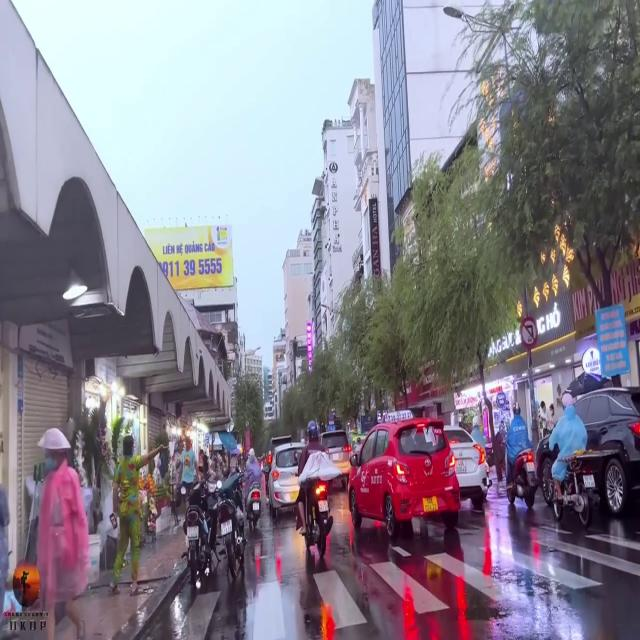bien_vang: (422, 494, 439, 515)
